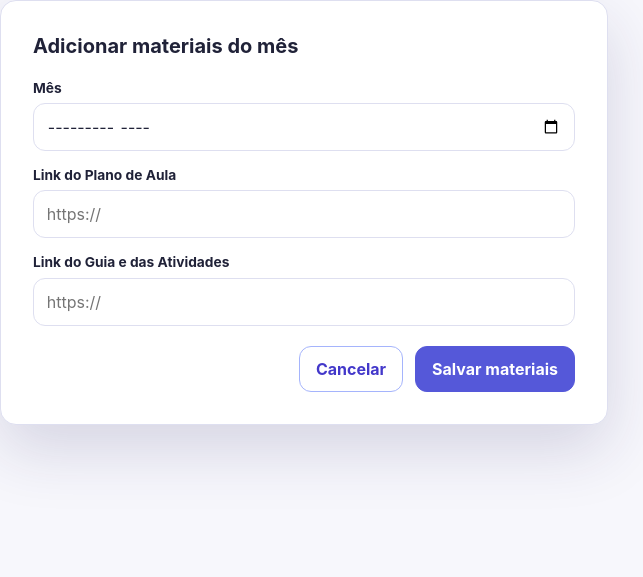
Test: gravação pelo formulário mensal › remove a mensagem anterior quando um campo é alterado
Step 1. Type "2026-09" into the field labelled "Mês" → (304, 127), box [33, 103, 575, 151]
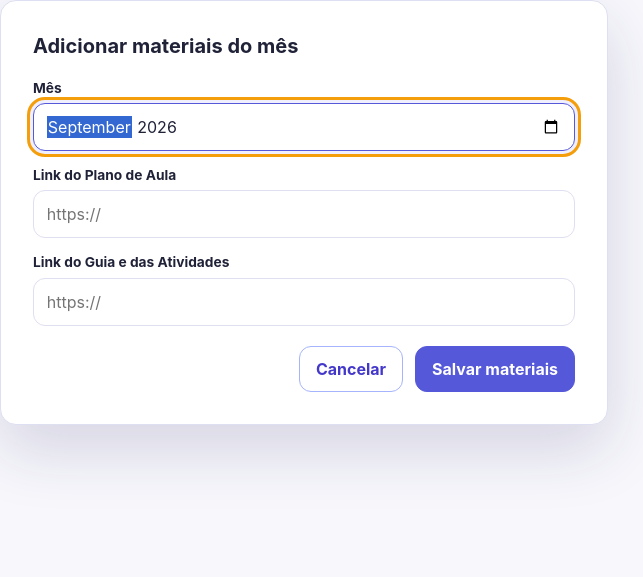
Step 2. Click the button "Salvar materiais" → click(495, 369), box [415, 346, 575, 392]
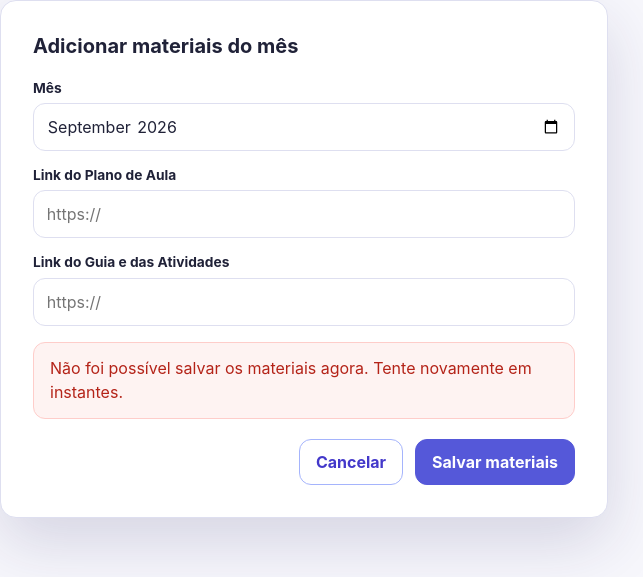
Now the message "Não foi possível salvar os materiais agora. Tente novamente em instantes." is shown, box [33, 342, 575, 419]
Step 3. Type "https://example.com/pa" into the field labelled "Link do Plano de Aula" → (304, 214), box [33, 190, 575, 238]
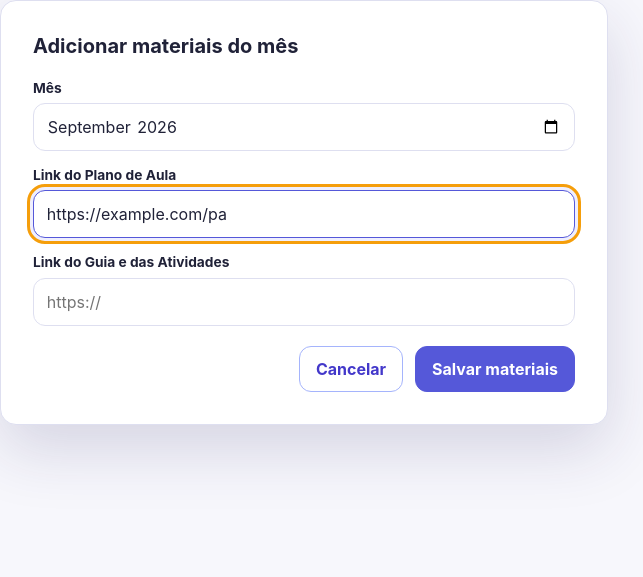
Now the message "Não foi possível salvar os materiais agora. Tente novamente em instantes." is gone
